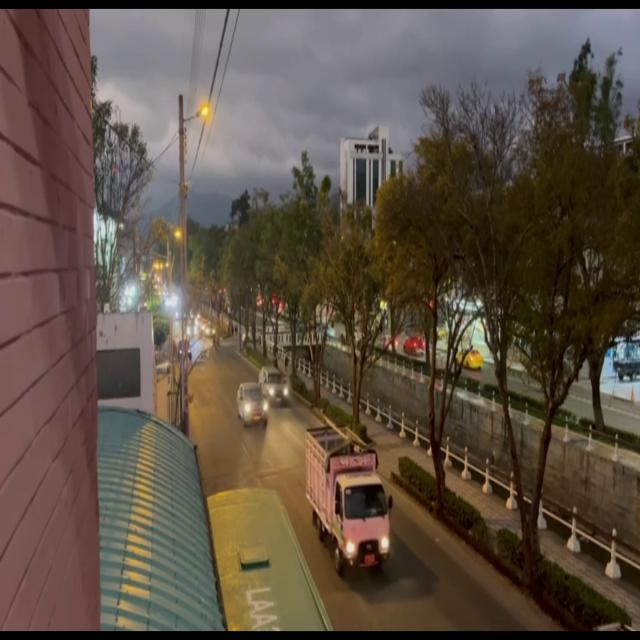CMT: (262, 368, 288, 404)
SUV: (239, 387, 266, 428)
TRUCK: (306, 430, 390, 570)
